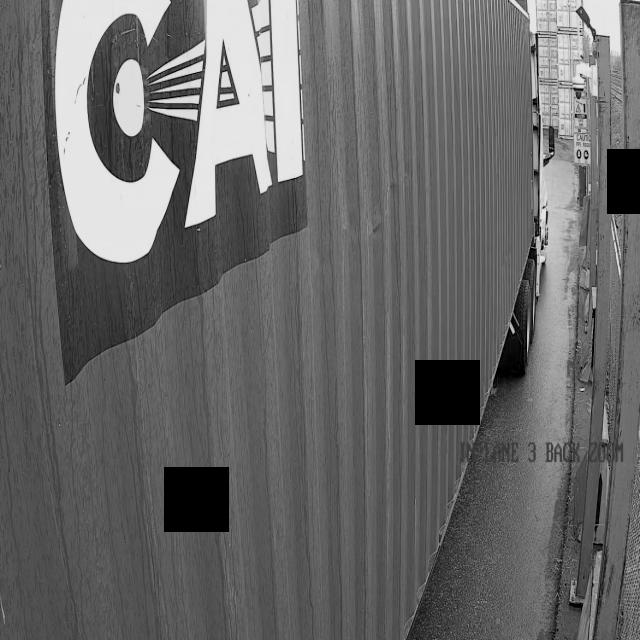container_company_logo: (28, 0, 389, 301)
truck_with_container: (0, 0, 545, 640)
